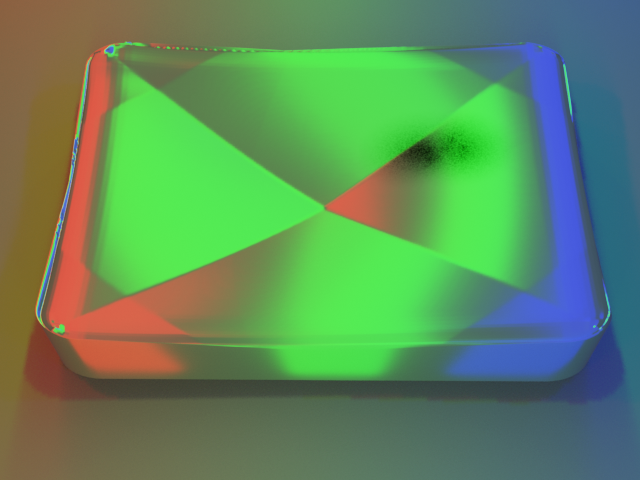smash: (0, 0, 639, 479)
stain: (363, 81, 560, 193)
